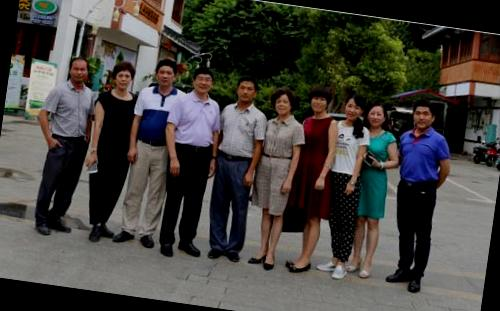no_helmet: (408, 96, 442, 133), (304, 82, 336, 118), (338, 87, 369, 124), (108, 58, 138, 96), (64, 53, 95, 89), (151, 57, 182, 92), (231, 72, 261, 108), (268, 86, 298, 120), (362, 100, 392, 133), (189, 64, 218, 98)
